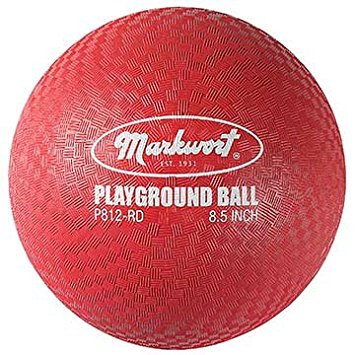red ball: (8, 5, 346, 351)
